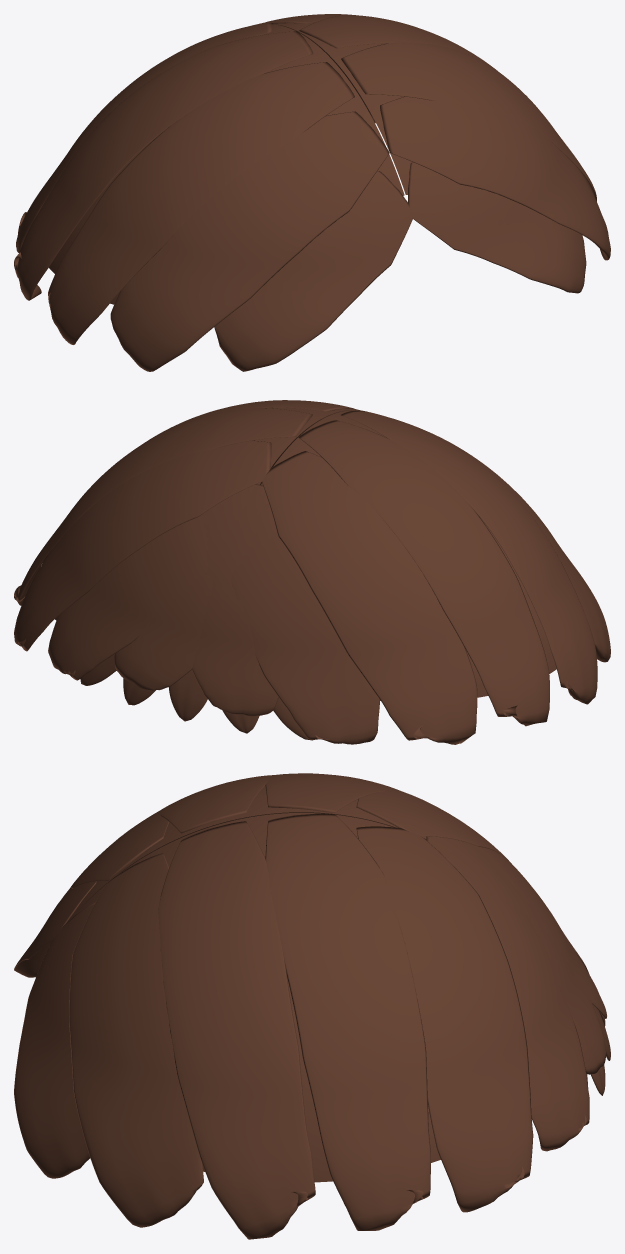
Rendered from Masculine-middle-part-bucket260-hair.glb.
The picture shows the model from 3 angles, top to bottom: view 1: azimuth 30°, elevation 25°; view 2: azimuth 150°, elevation 25°; view 3: azimuth 270°, elevation 25°; orthographic projection. The views are drawn at different scales.
Visible parts, largest first — view 1: 226 hair / Hair260 / layered middle-part; view 2: 226 hair / Hair260 / layered middle-part; view 3: 226 hair / Hair260 / layered middle-part.
Part boxes in pixels (x1=…): 226 hair / Hair260 / layered middle-part: x1=14, y1=14, x2=610, y2=371; 226 hair / Hair260 / layered middle-part: x1=14, y1=400, x2=610, y2=744; 226 hair / Hair260 / layered middle-part: x1=14, y1=773, x2=610, y2=1239.
Size of the model in its own units: 0.992 by 0.4101 by 0.7914.
